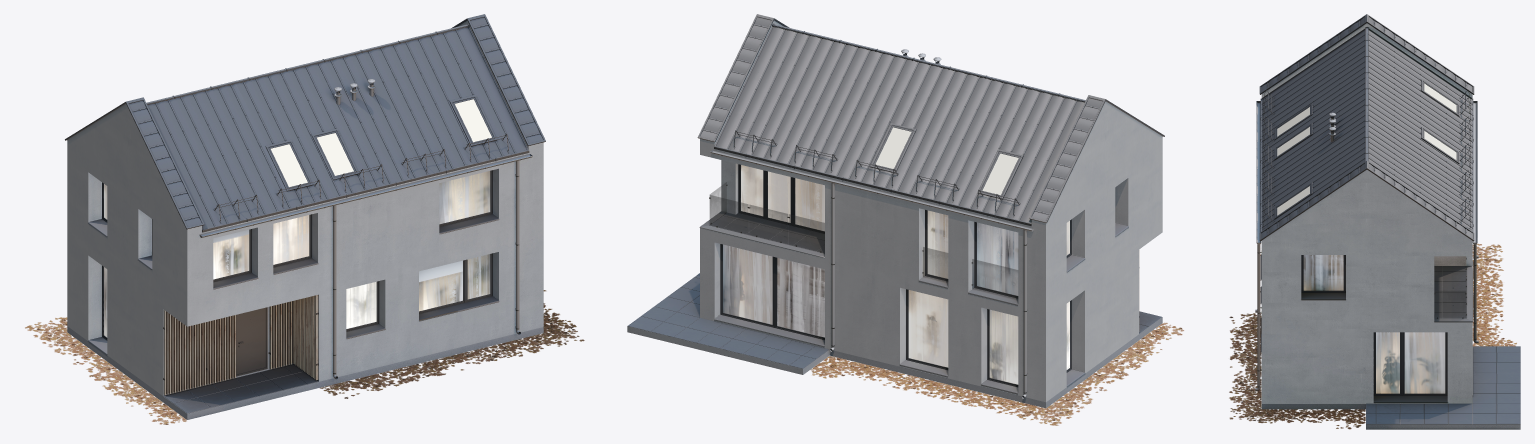
The picture shows the model from 3 angles, left to right: view 1: azimuth 30°, elevation 25°; view 2: azimuth 150°, elevation 25°; view 3: azimuth 270°, elevation 25°; orthographic projection. The views are drawn at different scales.
Parts seen in each view (by area): view 1: Fasad, Krisha, Steklo_okna, Plitka_derevo, Meloch, Listva, Sliv, Rama; view 2: Fasad, Krisha, Steklo_okna, Meloch, Plitka_derevo, Listva, Steklo, Rama, Sliv; view 3: Fasad, Krisha, Plitka_derevo, Steklo_okna, Meloch, Listva, Sliv, Rama, Steklo.
Boxes of the visible parts, x1,y1,x2,y2 form: Fasad: (67,20,543,419); Krisha: (129,17,543,229); Steklo_okna: (104,99,491,337); Plitka_derevo: (163,295,318,413); Meloch: (65,14,545,380); Listva: (25,290,584,424); Sliv: (199,79,532,379); Rama: (102,96,495,340); Fasad: (627,20,1162,408); Krisha: (700,17,1102,223); Steklo_okna: (723,127,1069,384); Meloch: (697,14,1164,394); Plitka_derevo: (627,212,1161,368); Listva: (810,322,1183,425); Steklo: (709,182,1017,299); Rama: (720,124,1071,387); Sliv: (709,49,1033,398); Fasad: (1261,23,1520,429); Krisha: (1260,17,1473,238); Plitka_derevo: (1366,266,1520,424); Steklo_okna: (1277,83,1456,393); Meloch: (1259,14,1474,402); Listva: (1229,244,1516,429); Sliv: (1255,101,1478,390); Rama: (1275,81,1458,395); Steklo: (1434,291,1465,317).
Bounding box in the file's own units: 0.443 × 0.2655 × 0.2931.
Materials: 9 (9 with a texture image).
